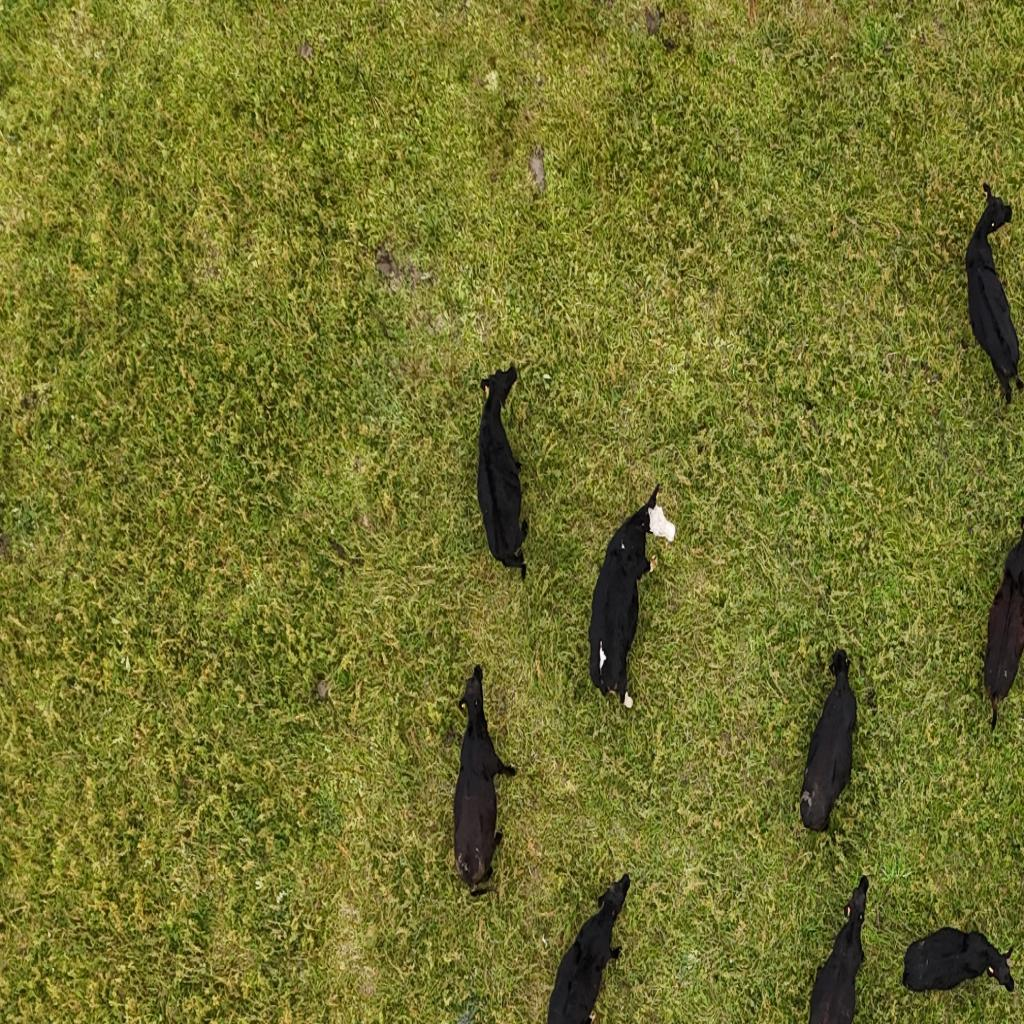cow: (586, 485, 677, 709), (451, 663, 523, 907), (958, 180, 1022, 422), (546, 875, 633, 1022), (471, 363, 528, 582), (797, 653, 858, 838), (981, 508, 1024, 738), (806, 874, 871, 1024), (900, 925, 1014, 1000)
